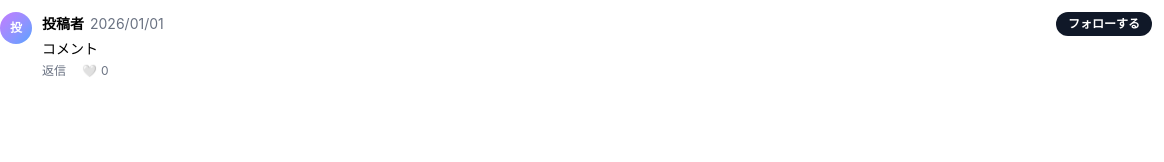
it: CommentThread › 返信を押すと返信フォームが開く
Expected: the field with placeholder "返信をポスト" is not shown
Click the button "返信" at [54, 71], box [42, 63, 66, 79]
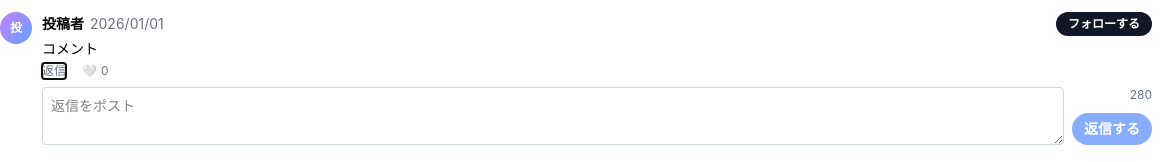
Expected: the text box with placeholder "返信をポスト" is shown, [42, 87, 1064, 145]
